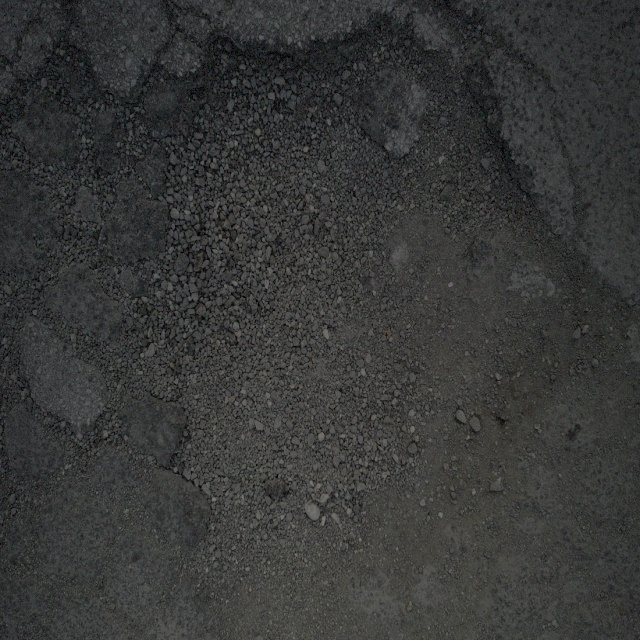pothole: (110, 16, 596, 397)
